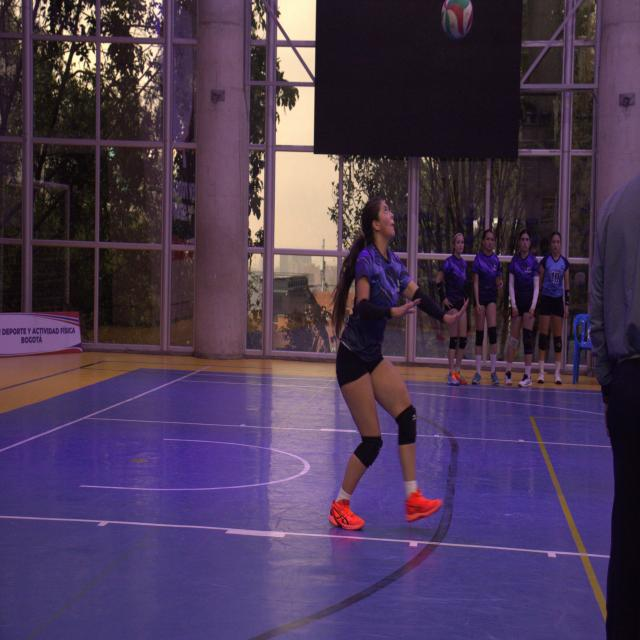volleyball: (439, 2, 474, 40)
